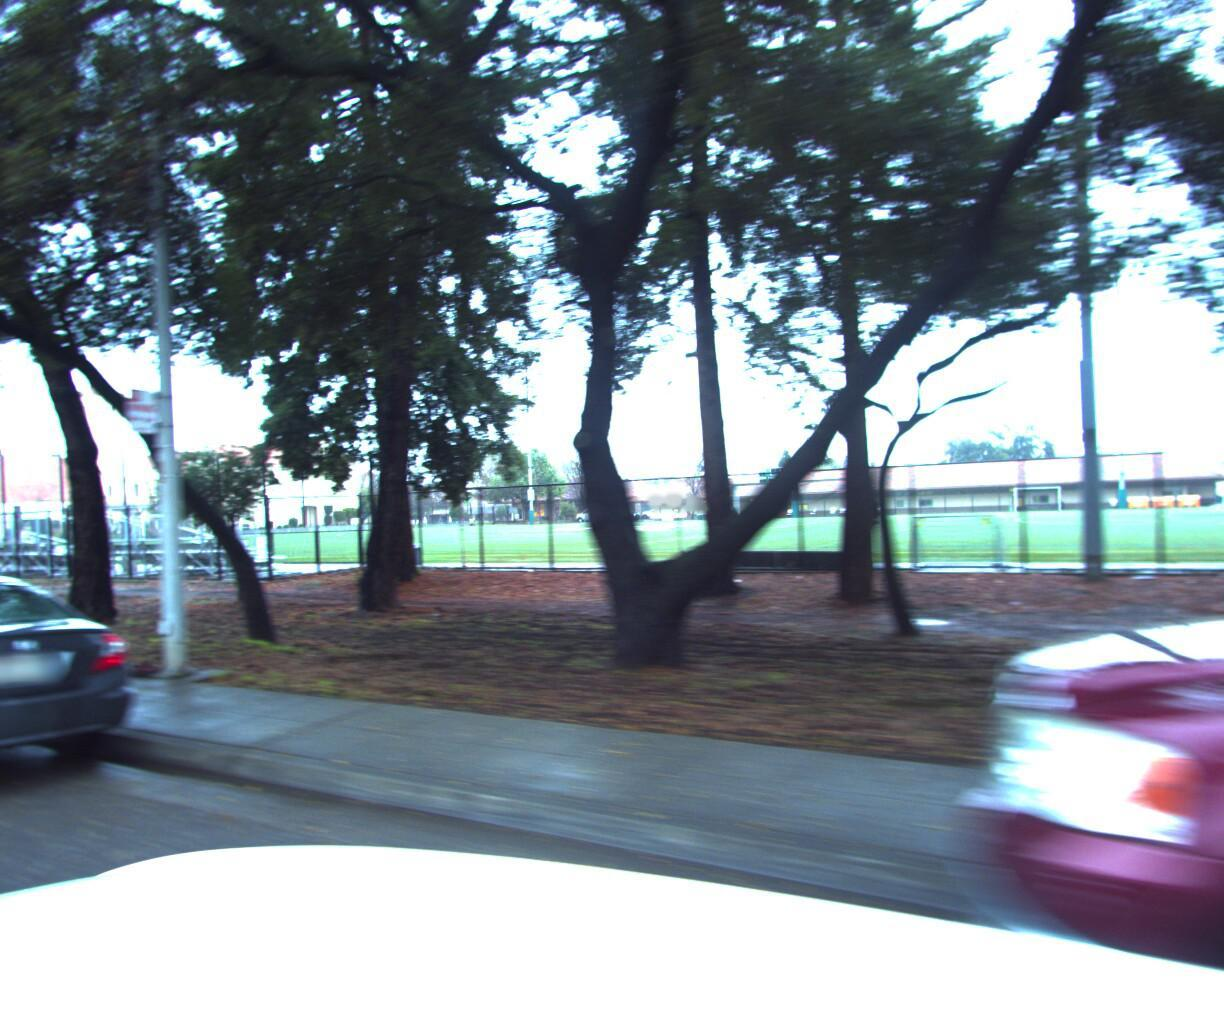car: (0, 554, 152, 856)
